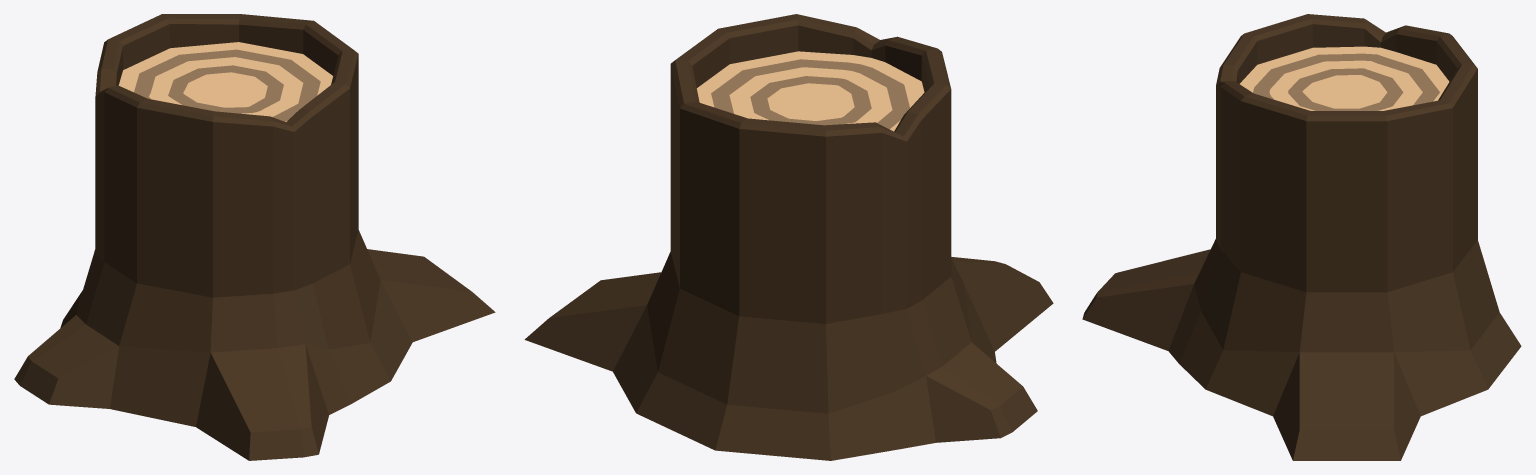
The model's file is Tree Stump 1.fbx.
3 views of the same model, side by side, from view 1: azimuth 30°, elevation 25°; view 2: azimuth 150°, elevation 25°; view 3: azimuth 270°, elevation 25° (orthographic). The views are drawn at different scales.
Parts seen in each view (by area): view 1: Tree Stump 1; view 2: Tree Stump 1; view 3: Tree Stump 1.
Boxes of the visible parts, x1,y1,x2,y2 form: Tree Stump 1: (14, 14, 495, 460); Tree Stump 1: (524, 14, 1053, 460); Tree Stump 1: (1082, 14, 1521, 460).
Bounding box in the file's own units: 47.43 × 29.86 × 42.21.
